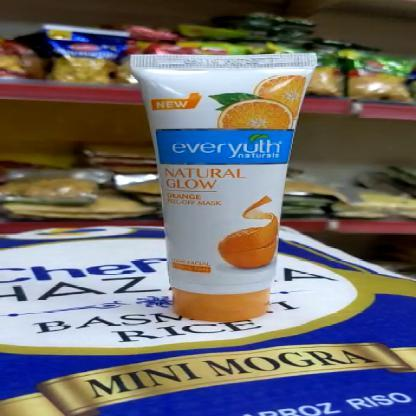EY ADVANCED GOLDEN GLOW PEEL OFF M- 50G: (147, 54, 287, 318)
